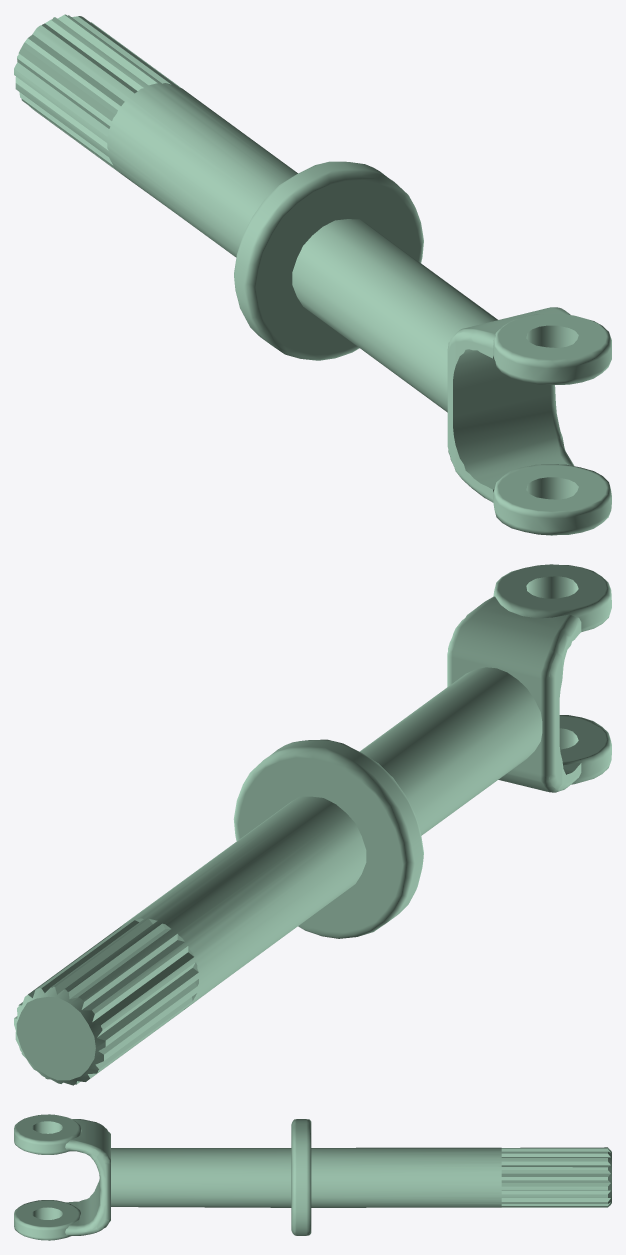
The model's file is Rear driveshaft isolated.gltf.
3 renders of one model, top to bottom at view 1: azimuth 30°, elevation 25°; view 2: azimuth 150°, elevation 25°; view 3: azimuth 270°, elevation 25°, orthographic. The views are drawn at different scales.
Parts seen in each view (by area): view 1: Shaft A; view 2: Shaft A; view 3: Shaft A.
Boxes of the visible parts, <box> form: Shaft A: <box>14,14,611,535</box>; Shaft A: <box>14,564,611,1085</box>; Shaft A: <box>14,1114,611,1240</box>.
Bounding box in the file's own units: 11.8 × 11.8 × 59.7.
